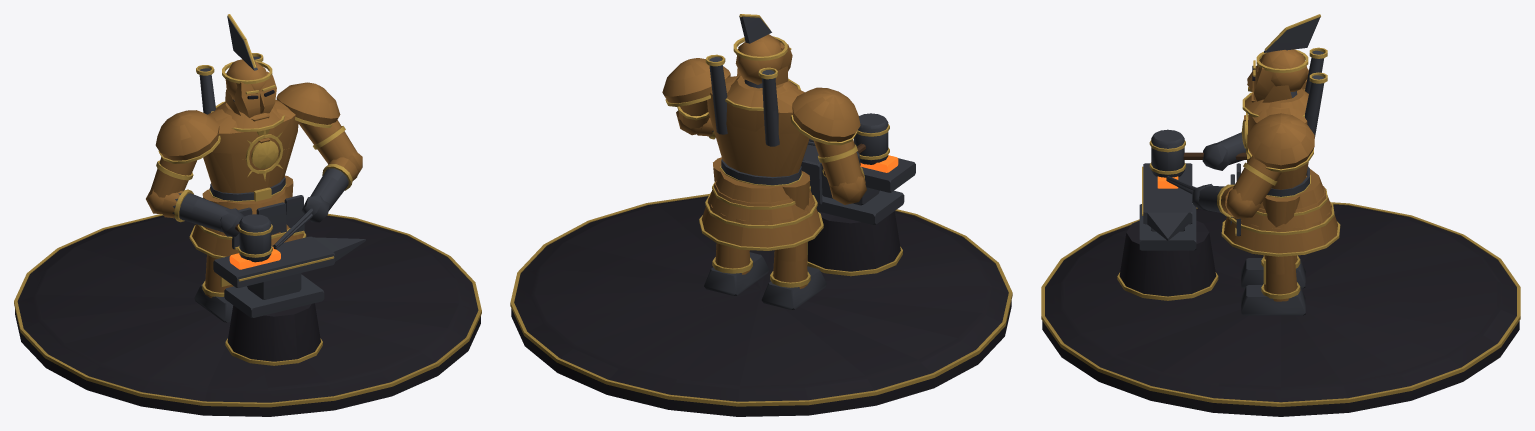
Rendered from automaton.glb.
The picture shows the model from 3 angles, left to right: view 1: azimuth 30°, elevation 25°; view 2: azimuth 150°, elevation 25°; view 3: azimuth 270°, elevation 25°; orthographic projection. The views are drawn at different scales.
Parts seen in each view (by area): view 1: base, torso, legs, head, foreR, foreL, hammer, armL, armR, ingot; view 2: base, torso, legs, head, armR, hammer, foreR, armL; view 3: base, legs, torso, head, foreL, hammer, armL, foreR.
Part boxes in pixels (left/top/right/bottom): base: left=14, top=213, right=481, bottom=416; torso: left=155, top=53, right=340, bottom=249; legs: left=189, top=175, right=306, bottom=322; head: left=222, top=14, right=276, bottom=143; foreR: left=146, top=189, right=244, bottom=236; foreL: left=273, top=151, right=362, bottom=249; hammer: left=235, top=214, right=272, bottom=262; armL: left=298, top=120, right=356, bottom=163; armR: left=150, top=157, right=196, bottom=197; ingot: left=229, top=246, right=280, bottom=269; base: left=510, top=144, right=1012, bottom=416; torso: left=662, top=54, right=860, bottom=204; legs: left=699, top=157, right=826, bottom=309; head: left=733, top=14, right=792, bottom=85; armR: left=814, top=139, right=862, bottom=187; hammer: left=822, top=113, right=889, bottom=177; foreR: left=829, top=151, right=866, bottom=204; armL: left=677, top=100, right=709, bottom=130; base: left=1041, top=163, right=1520, bottom=416; legs: left=1221, top=169, right=1340, bottom=315; torso: left=1230, top=47, right=1327, bottom=236; head: left=1244, top=14, right=1320, bottom=125; foreL: left=1166, top=176, right=1260, bottom=218; hammer: left=1149, top=129, right=1249, bottom=177; armL: left=1233, top=156, right=1281, bottom=205; foreR: left=1202, top=132, right=1245, bottom=170.
Bounding box in the file's own units: 12.84 × 8.81 × 12.71.
